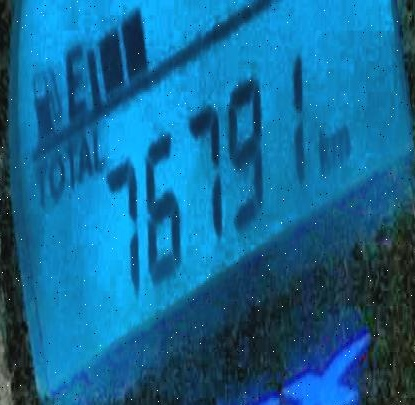1: (285, 47, 307, 187)
6: (145, 128, 182, 290)
7: (187, 99, 226, 241), (107, 155, 142, 294)
9: (229, 74, 266, 235)
X: (63, 40, 87, 116), (330, 122, 353, 162), (48, 147, 63, 195), (66, 135, 79, 189), (78, 130, 93, 176), (34, 155, 47, 204), (92, 124, 105, 173), (318, 130, 331, 176)
